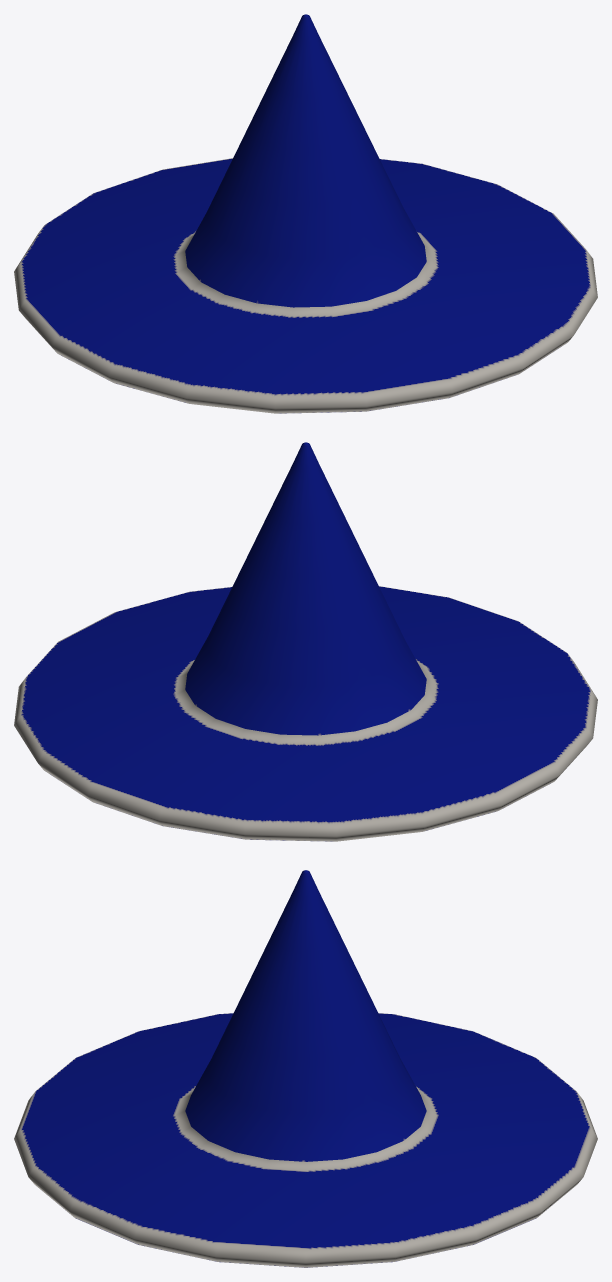
Rendered from wizardHat.fbx.
The picture shows the model from 3 angles, top to bottom: view 1: azimuth 30°, elevation 25°; view 2: azimuth 150°, elevation 25°; view 3: azimuth 270°, elevation 25°; orthographic projection.
Visible parts, largest first — view 1: Wizard_Hat; view 2: Wizard_Hat; view 3: Wizard_Hat.
Part boxes in pixels (x1,y1,x2,y2): Wizard_Hat: [14, 14, 597, 413]; Wizard_Hat: [14, 442, 597, 841]; Wizard_Hat: [14, 870, 597, 1267].
Bounding box in the file's own units: 110 × 57.82 × 110.
Materials: 1 (1 with a texture image).
